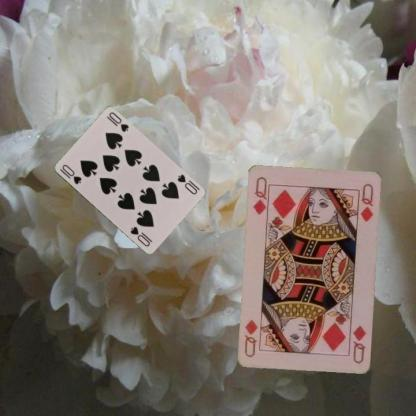10s: (56, 162, 82, 185), (175, 171, 198, 196)
Qd: (250, 174, 272, 219), (350, 324, 368, 365)
